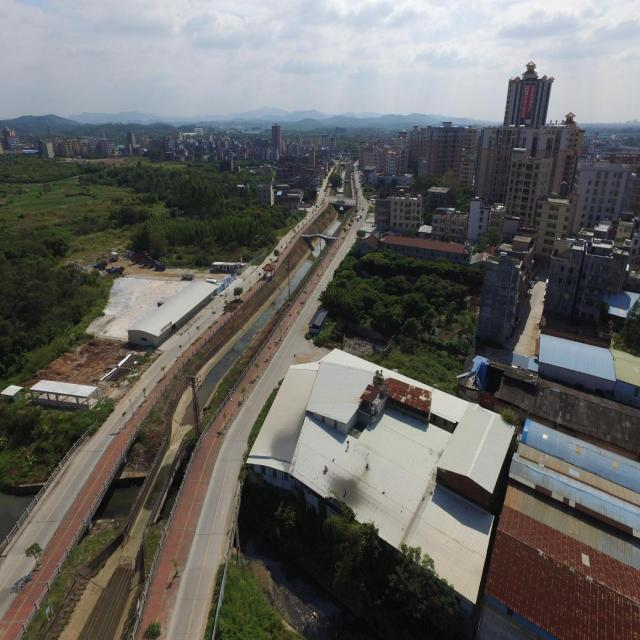tree: (24, 542, 43, 570)
